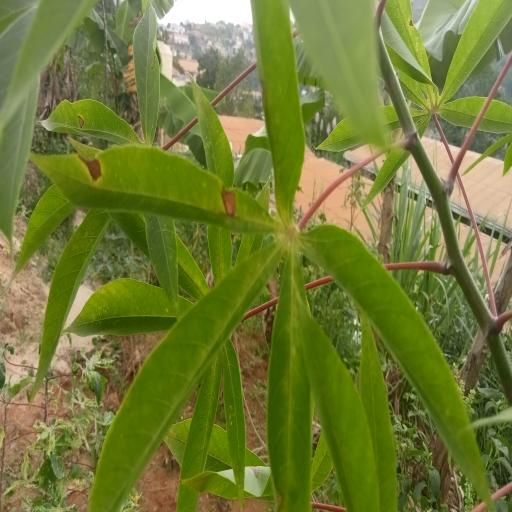Cassava_Brown_Leaf_Spot: (40, 0, 482, 512)
